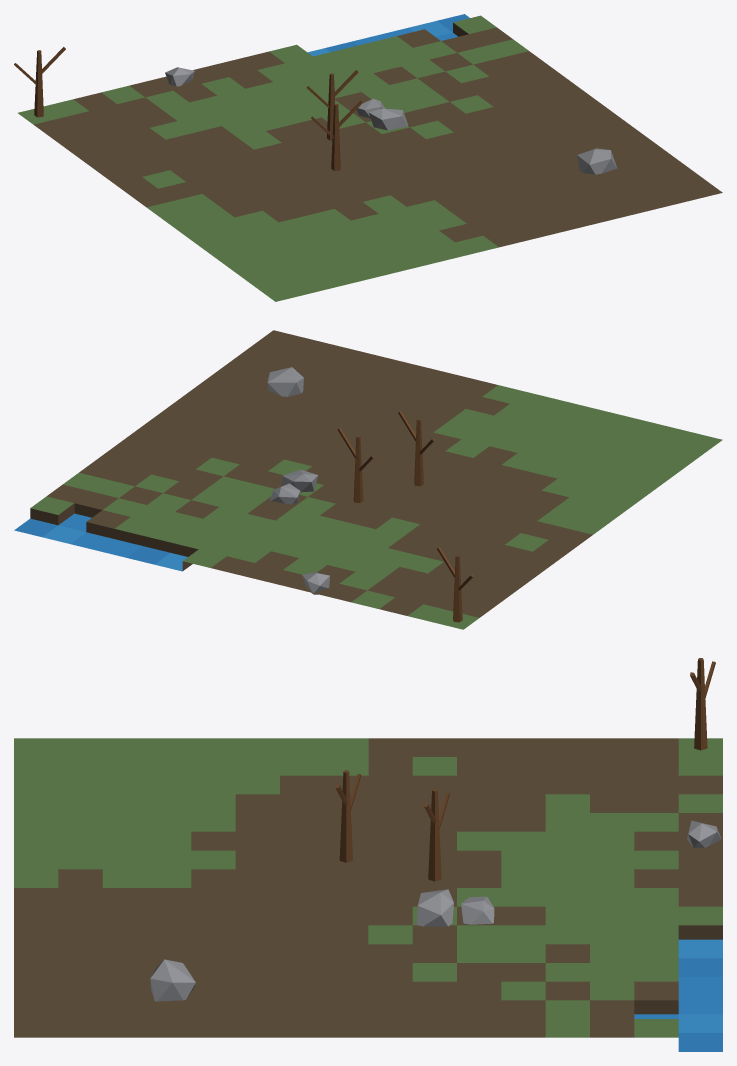
File: chunk_0_17.glb
3 views of the same model, one above another, from view 1: azimuth 30°, elevation 25°; view 2: azimuth 150°, elevation 25°; view 3: azimuth 270°, elevation 25° (orthographic). The views are drawn at different scales.
Visible parts, largest first — view 1: chunk_0_17; view 2: chunk_0_17; view 3: chunk_0_17.
Boxes of the visible parts, x1,y1,x2,y2 form: chunk_0_17: [14, 14, 722, 301]; chunk_0_17: [14, 330, 722, 629]; chunk_0_17: [14, 658, 722, 1051].
Size of the model in its own units: 16.24 by 2.68 by 16.
